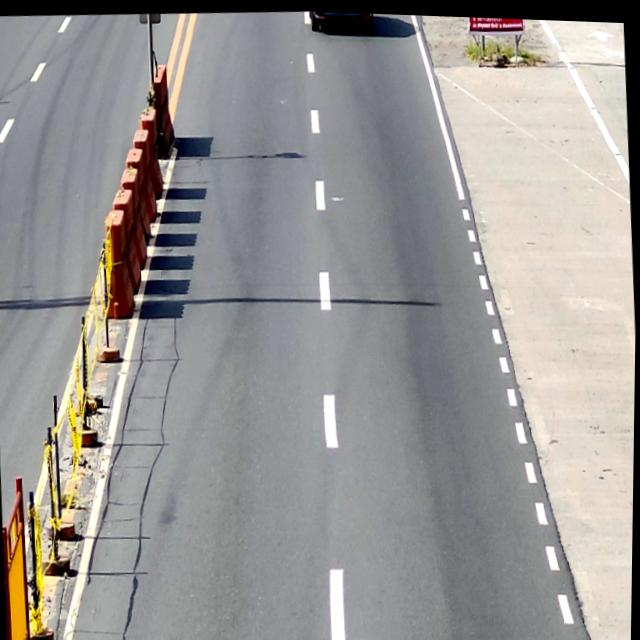Car: (310, 9, 375, 35)
